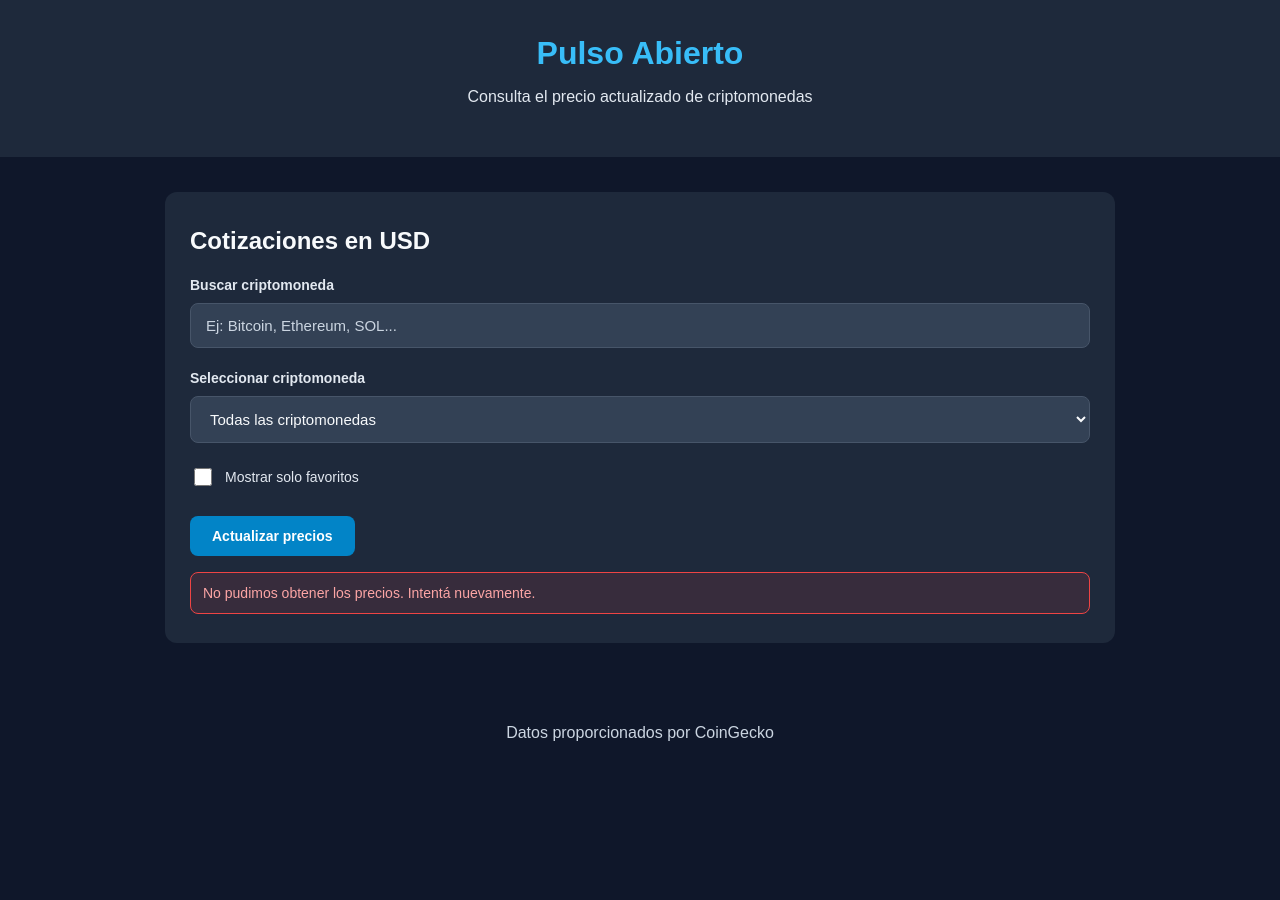
Test: Aplicación Pulso Abierto › permite reintentar la consulta después de un error
The width and height of the screenshot is (1280, 900).
Expected: the text "No pudimos obtener los precios. Intentá nuevamente." is shown, [190, 572, 1090, 614]
Step 1. Click the button "Actualizar precios" → click(272, 536), box [190, 516, 355, 556]
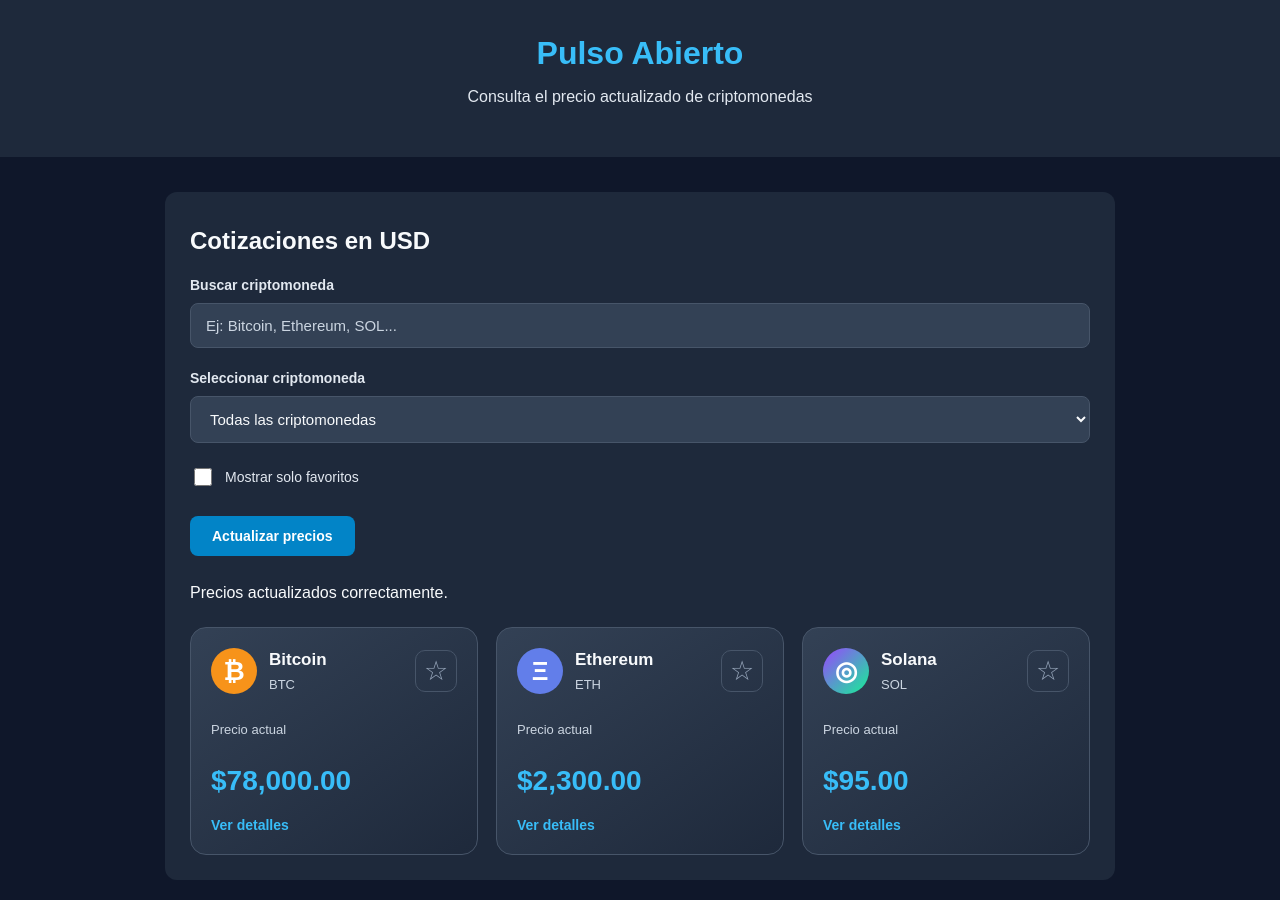
Expected: the text "Precios actualizados correctamente." is shown, [190, 584, 448, 601]
Expected: the heading "Bitcoin" is shown, [269, 650, 327, 668]
